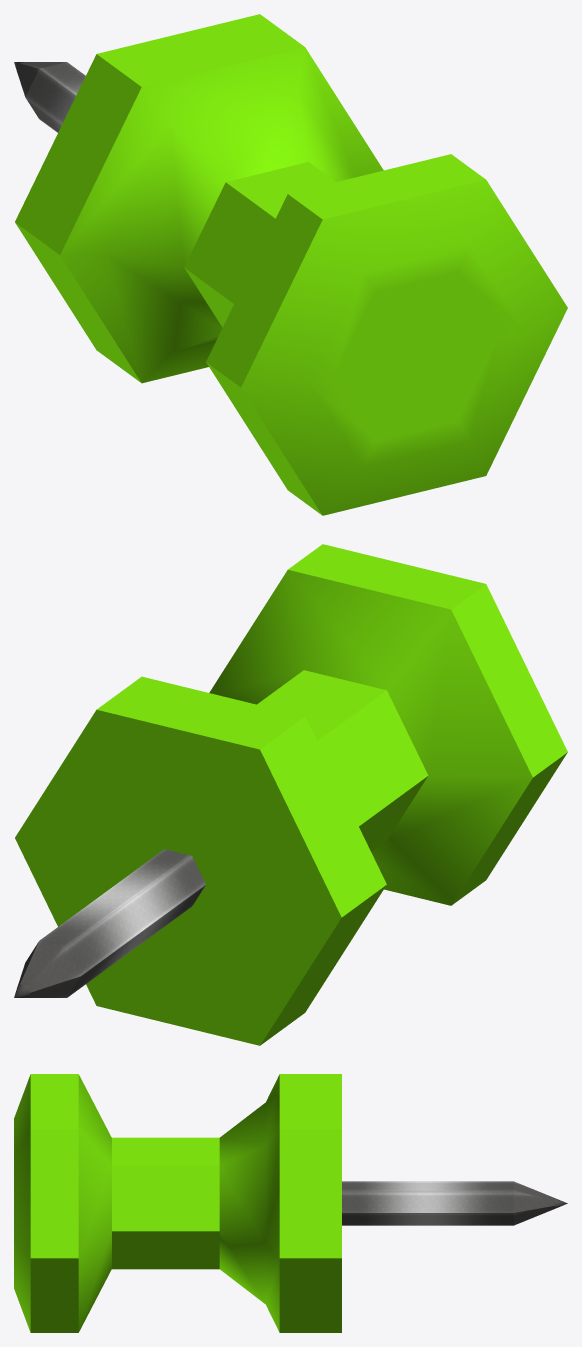
The model's file is Tack_G.FBX.
The picture shows the model from 3 angles, top to bottom: view 1: azimuth 30°, elevation 25°; view 2: azimuth 150°, elevation 25°; view 3: azimuth 270°, elevation 25°; orthographic projection. The views are drawn at different scales.
Visible parts, largest first — view 1: Tack; view 2: Tack; view 3: Tack.
Boxes of the visible parts, x1,y1,x2,y2 form: Tack: [14, 14, 567, 515]; Tack: [14, 544, 567, 1045]; Tack: [14, 1074, 567, 1332].
Bounding box in the file's own units: 6.28 × 5.43 × 13.38.
